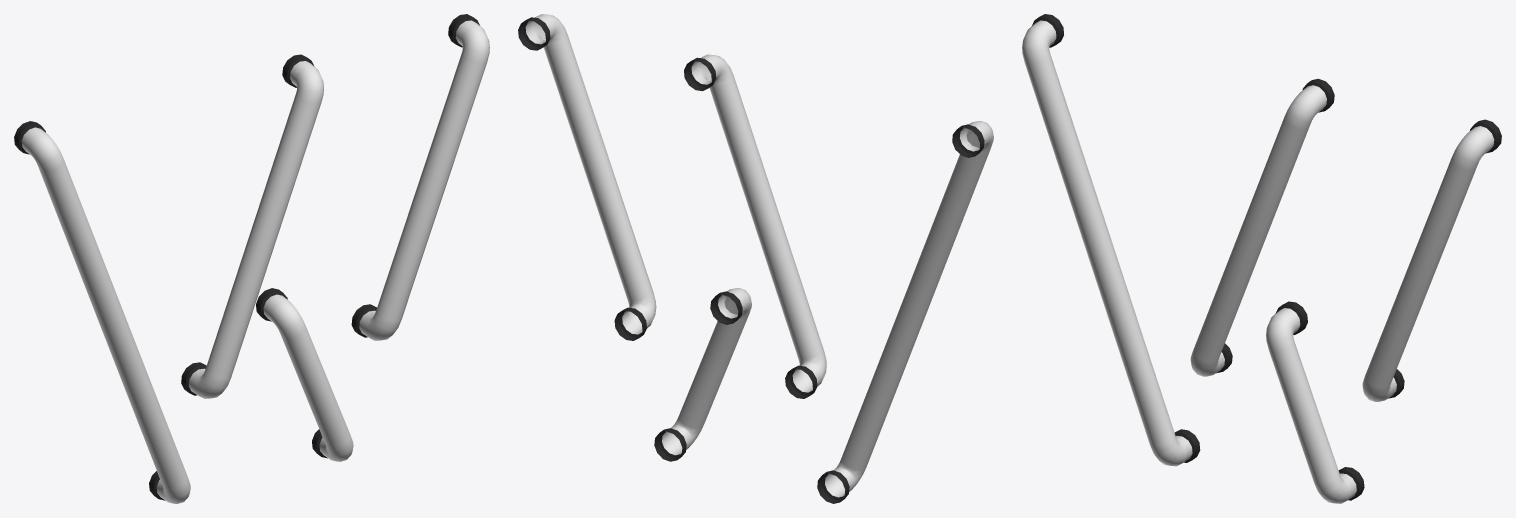
Rendered from LettersNeon01_W.FBX.
The picture shows the model from 3 angles, left to right: view 1: azimuth 30°, elevation 25°; view 2: azimuth 150°, elevation 25°; view 3: azimuth 330°, elevation 25°; orthographic projection.
Visible parts, largest first — view 1: LettersNeon01_W; view 2: LettersNeon01_W; view 3: LettersNeon01_W.
Part boxes in pixels (x1=…): LettersNeon01_W: x1=14, y1=14, x2=489, y2=503; LettersNeon01_W: x1=518, y1=14, x2=993, y2=503; LettersNeon01_W: x1=1022, y1=14, x2=1501, y2=503.
Size of what is drawn, in the model's own units: 0.5905 by 0.4999 by 0.054.
